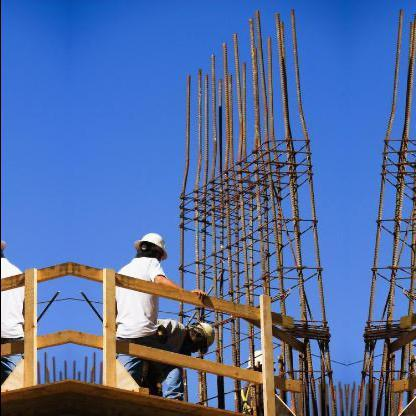Helmet: (127, 228, 168, 264), (0, 228, 10, 264)
